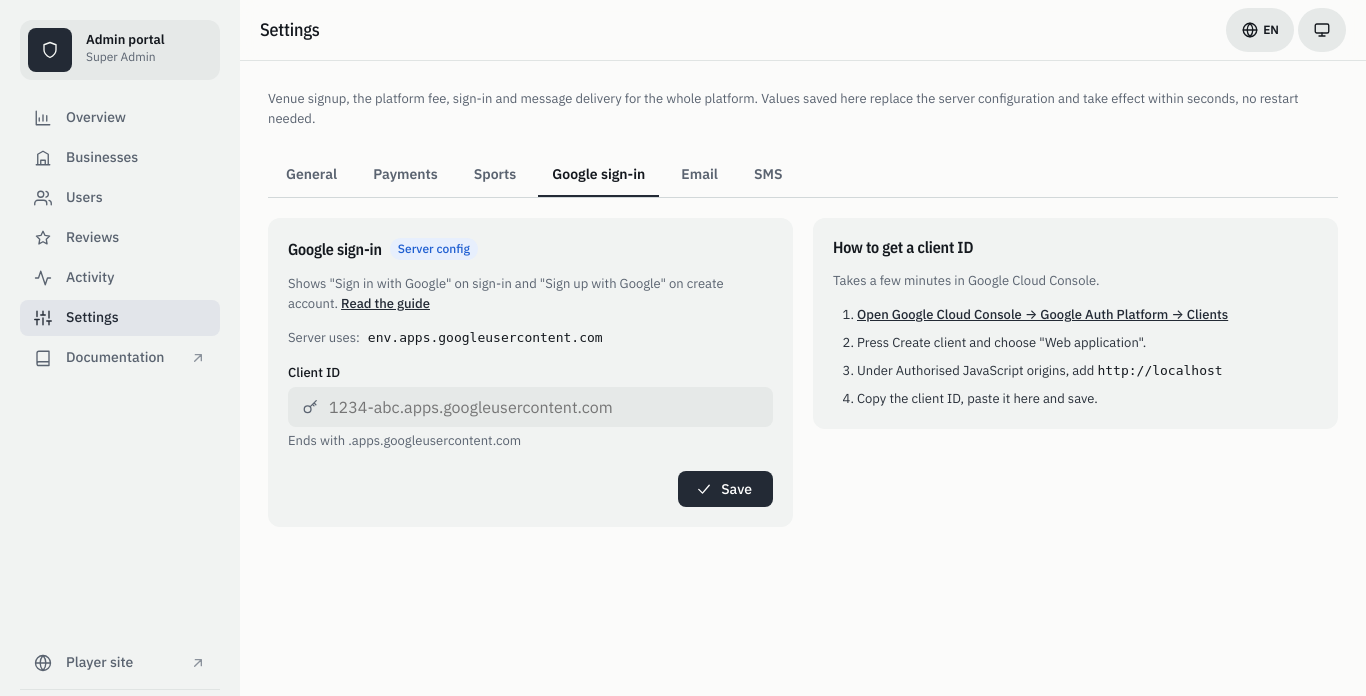
it: admin settings › is in the admin nav and shows where each value comes from
Expected: the text "Server config" is shown, [390, 238, 478, 260]
Expected: the text "env.apps.googleusercontent.com" is shown, [368, 328, 603, 348]
Click the tab "Email" at {"x": 700, "y": 175}, box [667, 153, 732, 197]
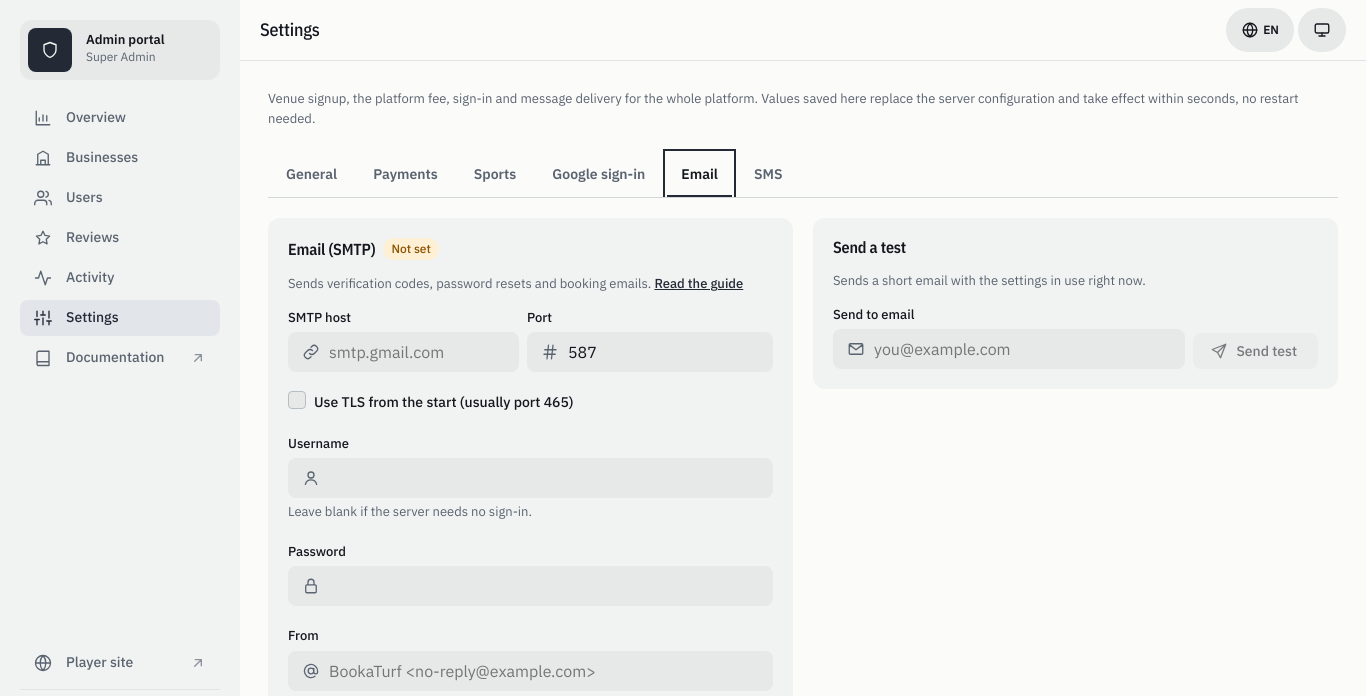
Now the text "Not set" is shown, box [383, 238, 439, 260]
